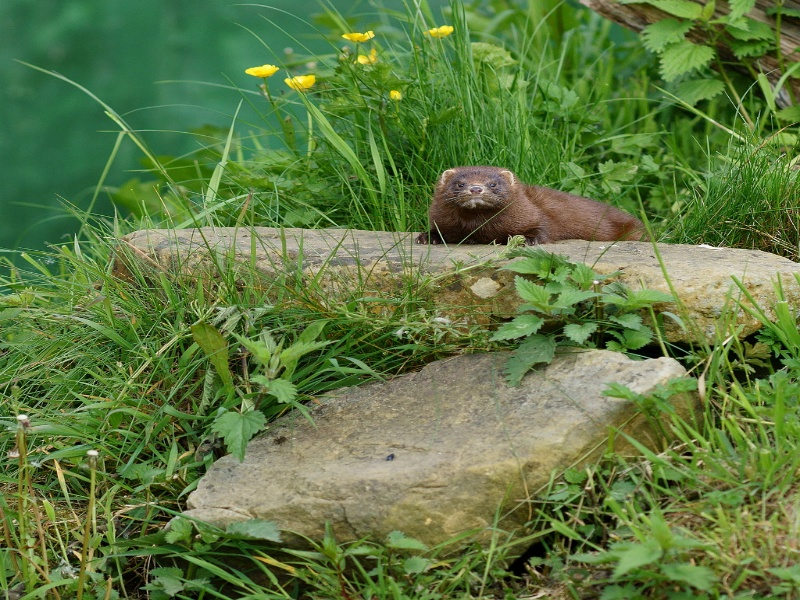minkish: (419, 162, 653, 279)
